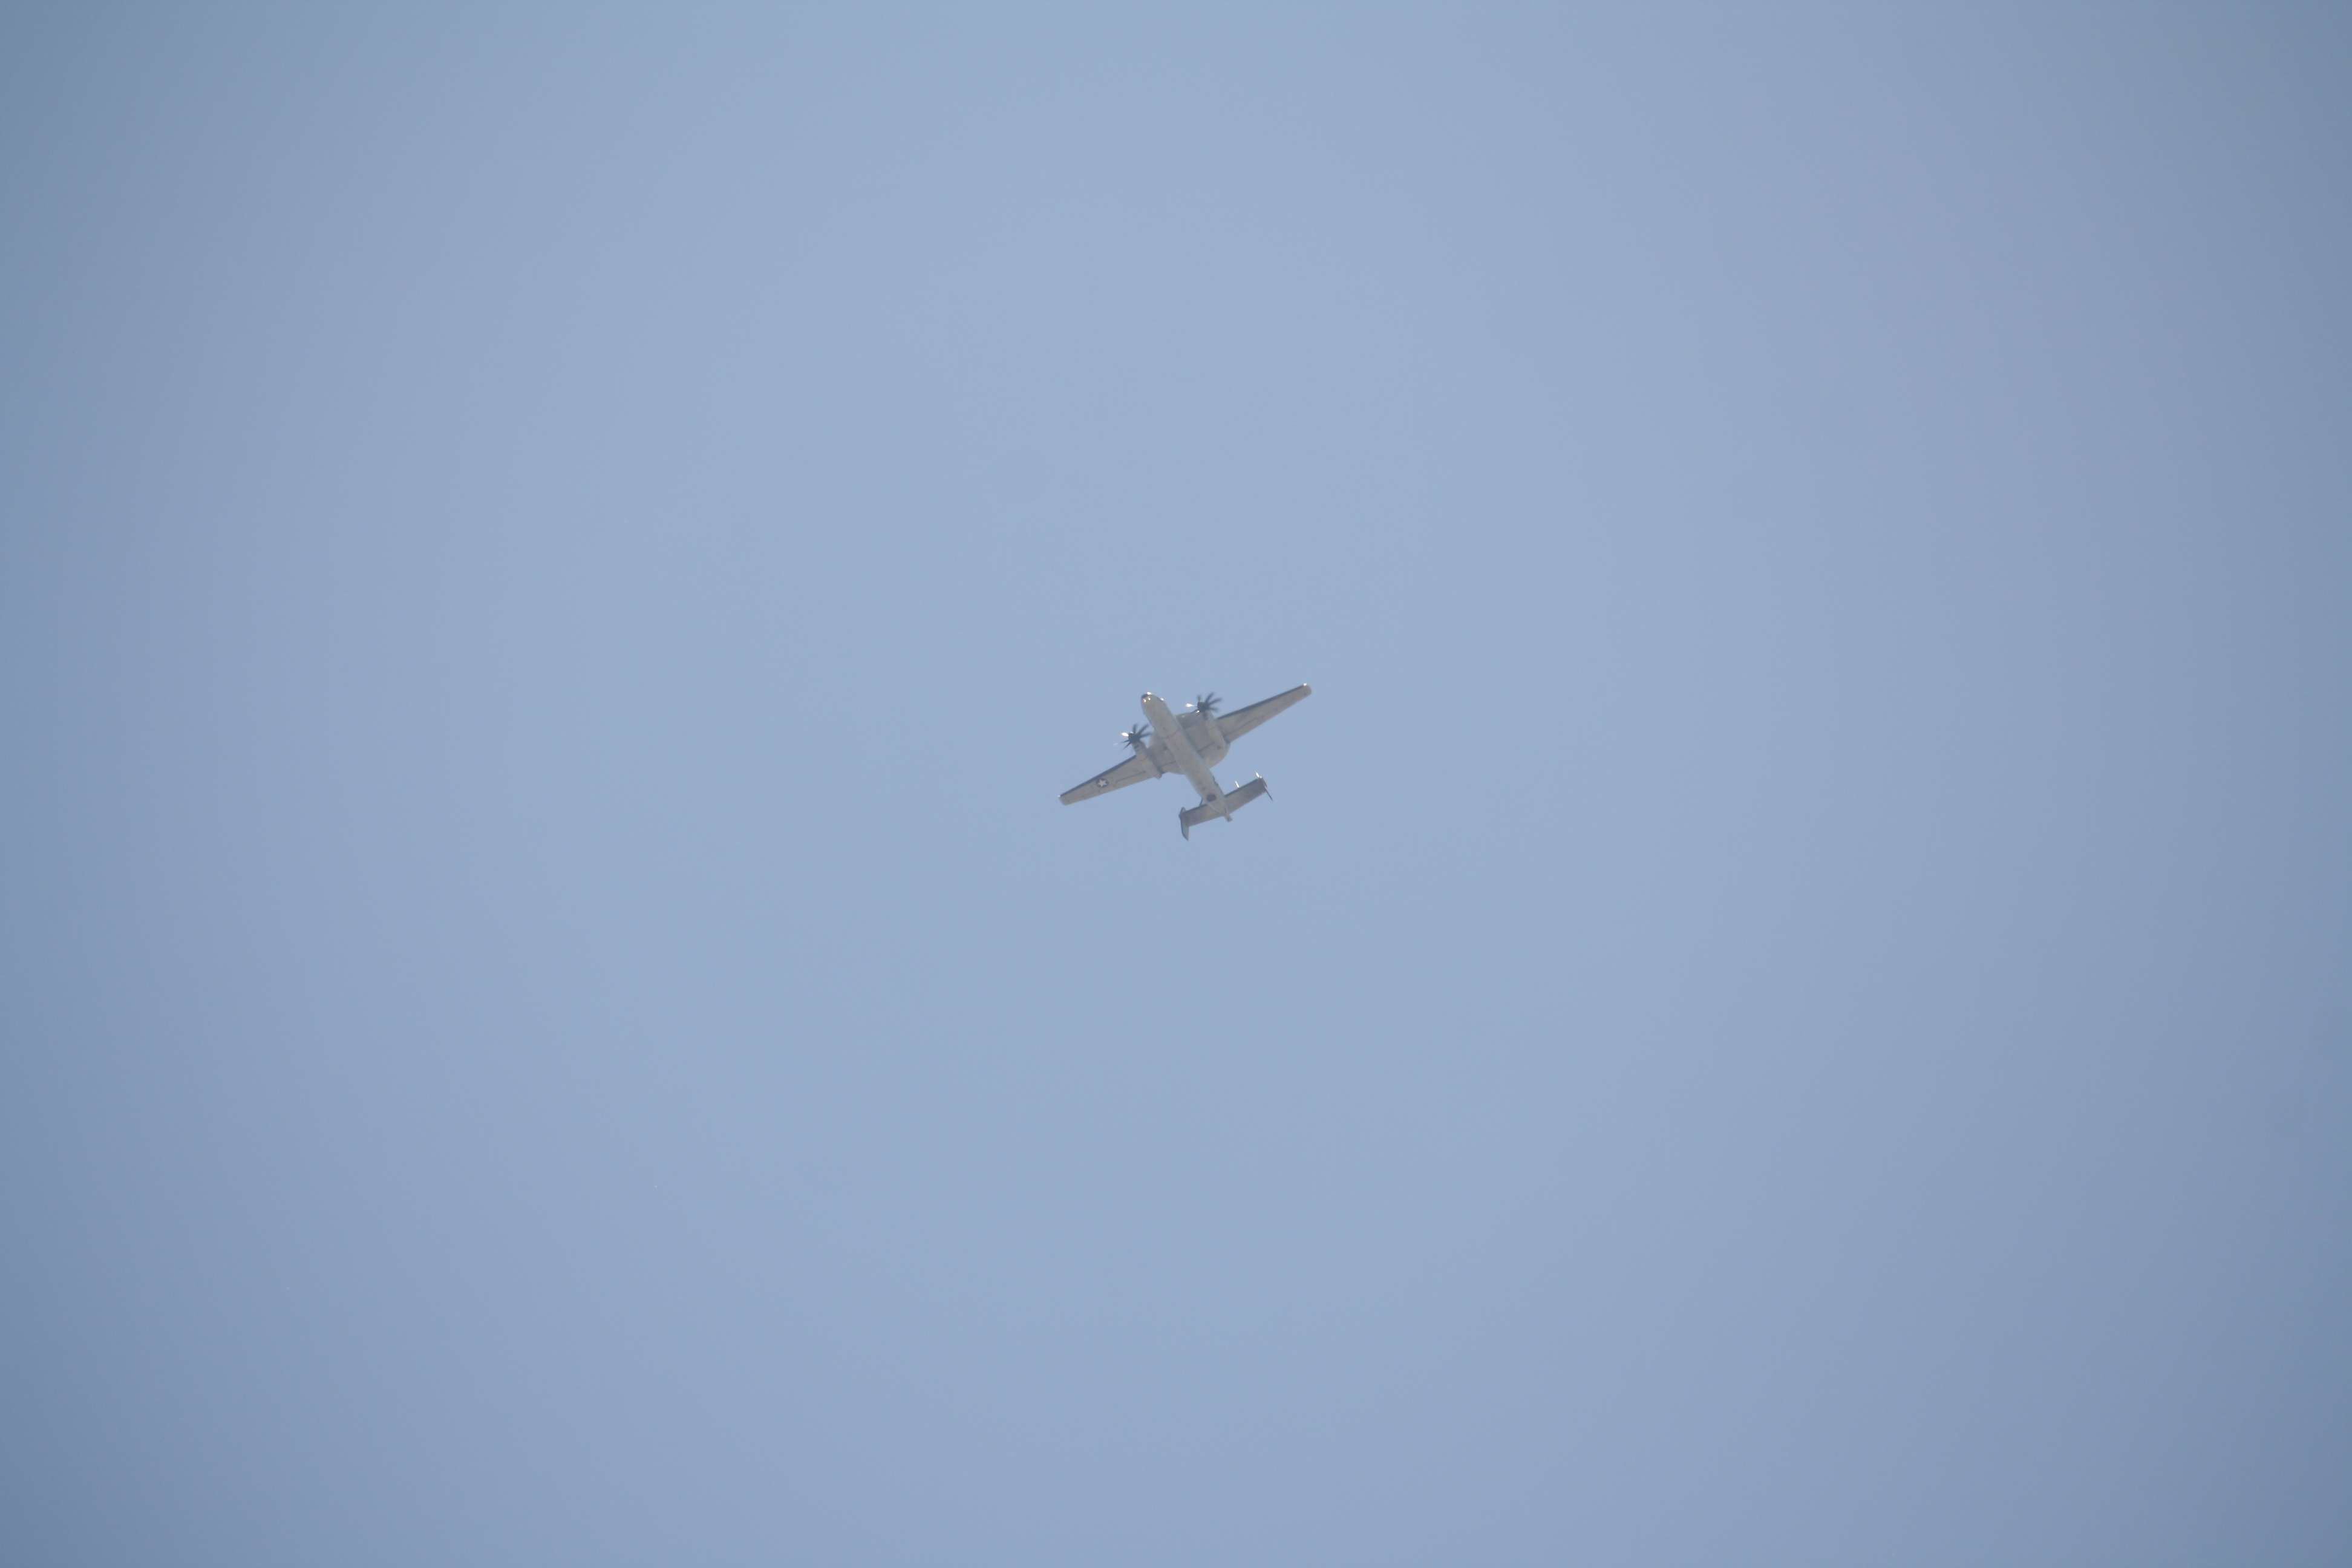E2: (1057, 683, 1312, 842)
